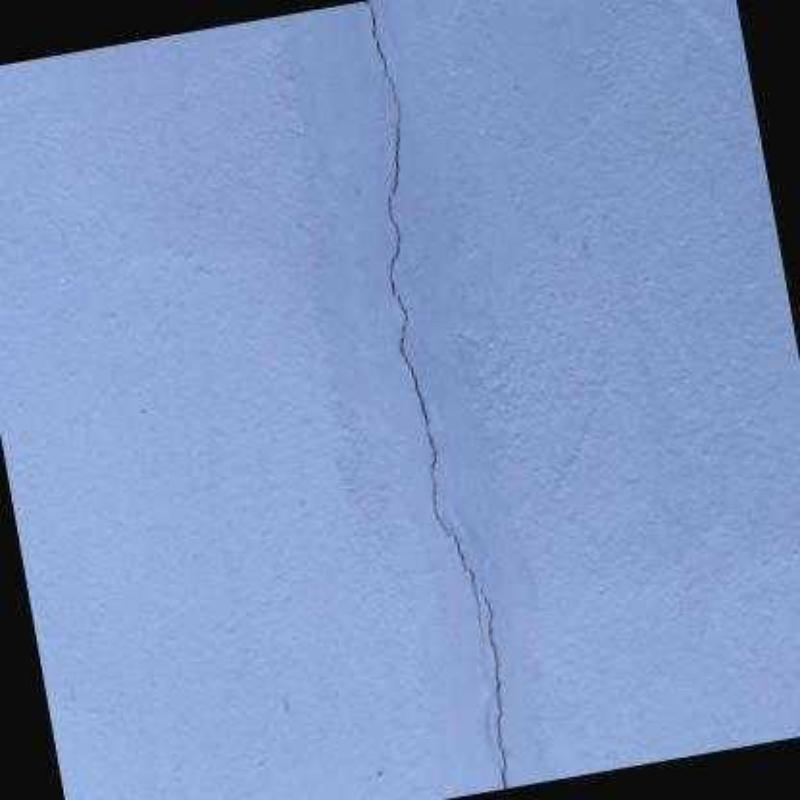pothole: (358, 0, 486, 663), (479, 579, 510, 788)
